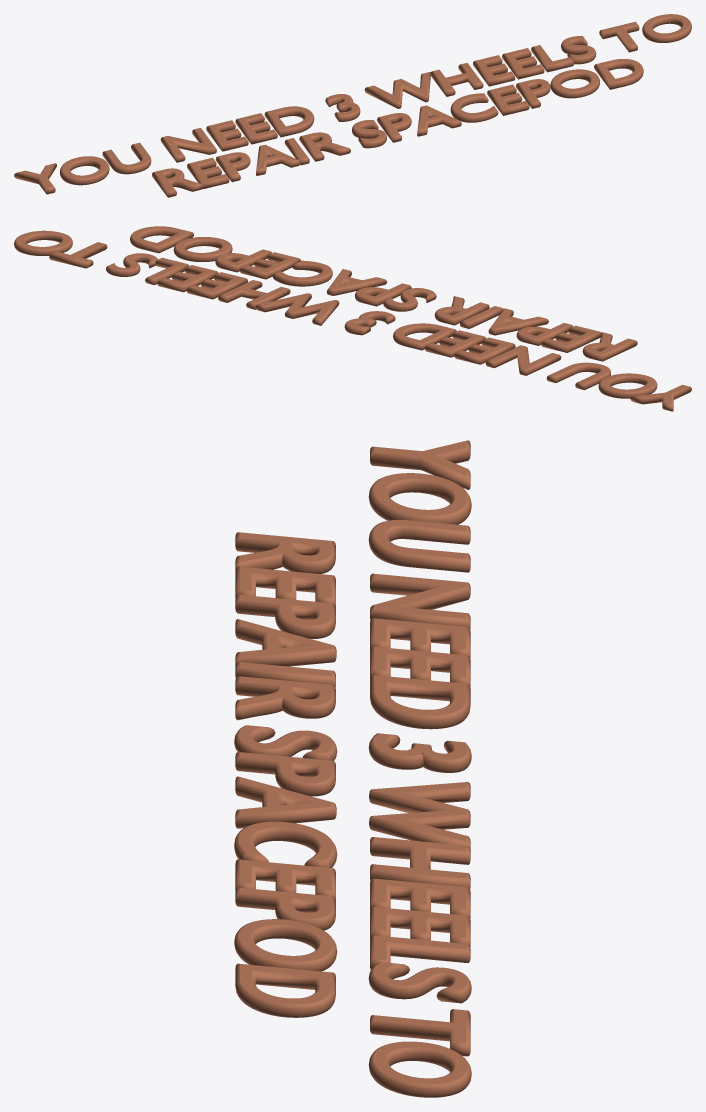
File: YouNeed3wheels_Text.fbx
3 renders of one model, top to bottom at view 1: azimuth 30°, elevation 25°; view 2: azimuth 150°, elevation 25°; view 3: azimuth 270°, elevation 25°, orthographic. The views are drawn at different scales.
Visible parts, largest first — view 1: Text; view 2: Text; view 3: Text.
Boxes of the visible parts, left/top/right/bottom form: Text: left=14, top=14, right=691, bottom=197; Text: left=14, top=226, right=691, bottom=411; Text: left=234, top=440, right=471, bottom=1097.
Size of the model in its own units: 1140 by 11.05 by 177.
